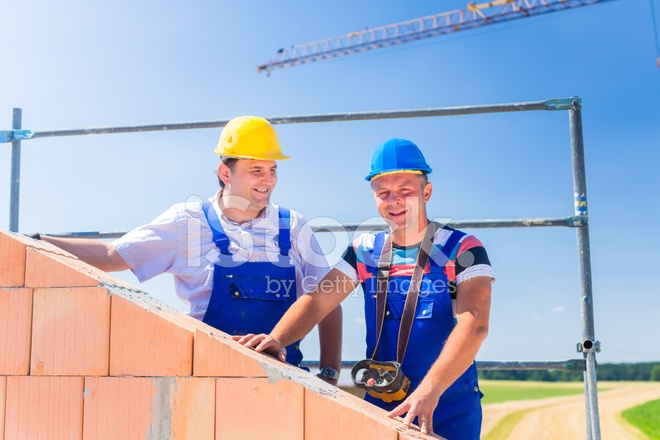blue: (365, 135, 429, 231)
yellow: (215, 116, 278, 206)
